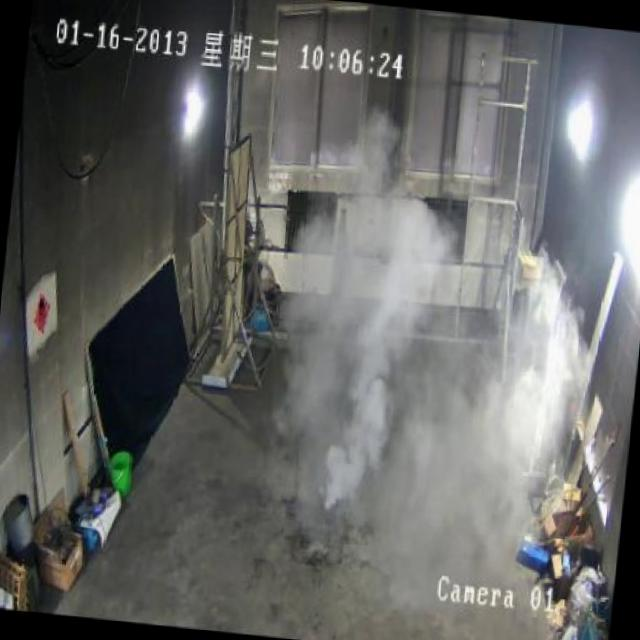smoke: (288, 164, 559, 514)
